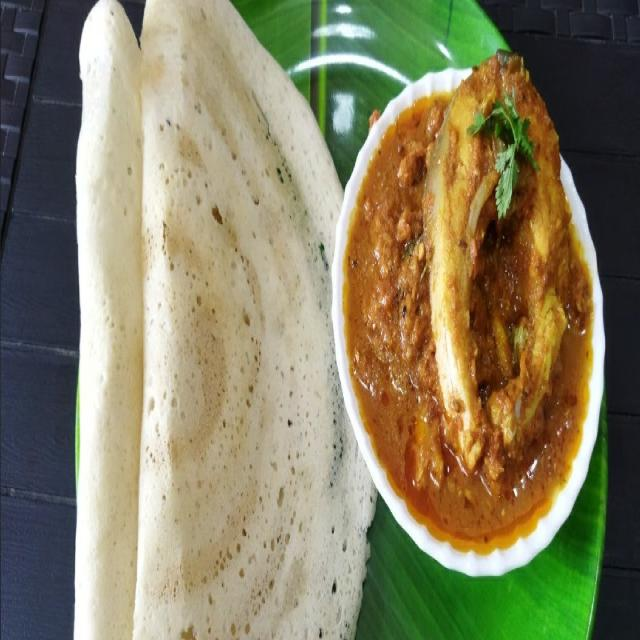DOSA: (74, 0, 379, 639)
FISH CURRY: (343, 52, 593, 576)
